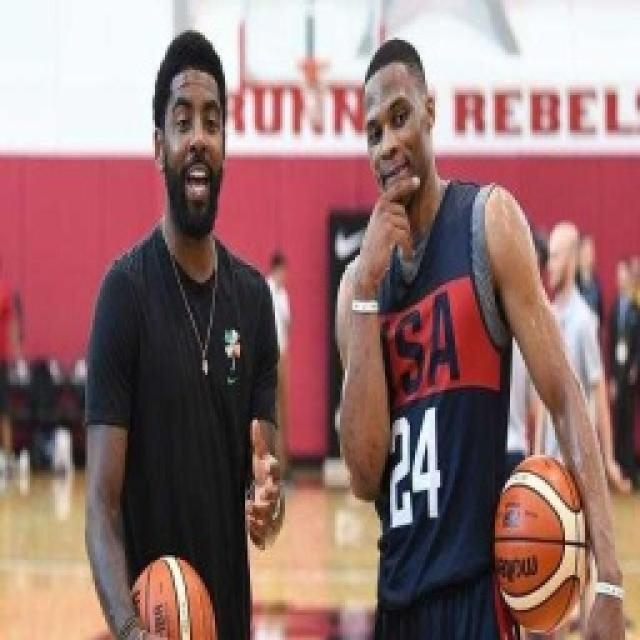rim: (488, 445, 600, 640), (117, 549, 226, 640)
